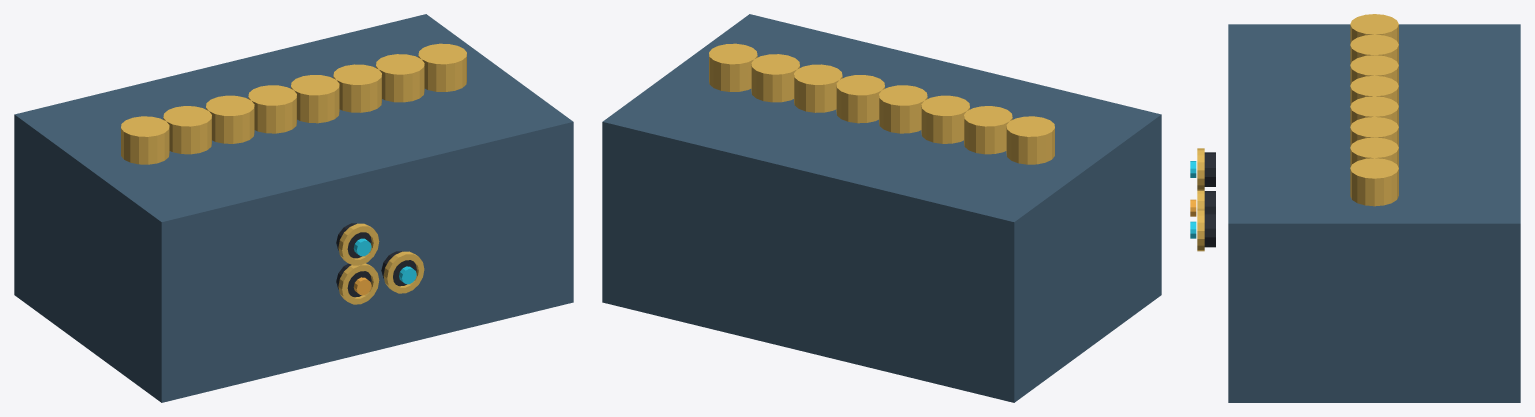
The model's file is 17_L82_DCFeedthroughFilterArray.fbx.
3 renders of one model, left to right at view 1: azimuth 30°, elevation 25°; view 2: azimuth 150°, elevation 25°; view 3: azimuth 270°, elevation 25°, orthographic.
Parts seen in each view (by area): view 1: DCFeedthroughFilterArray; view 2: DCFeedthroughFilterArray; view 3: DCFeedthroughFilterArray.
Part boxes in pixels (box(x1,y1,x2,y2)): DCFeedthroughFilterArray: box(14, 14, 573, 402); DCFeedthroughFilterArray: box(602, 14, 1161, 402); DCFeedthroughFilterArray: box(1190, 14, 1520, 402).
Bounding box in the file's own units: 155 × 75 × 108.
